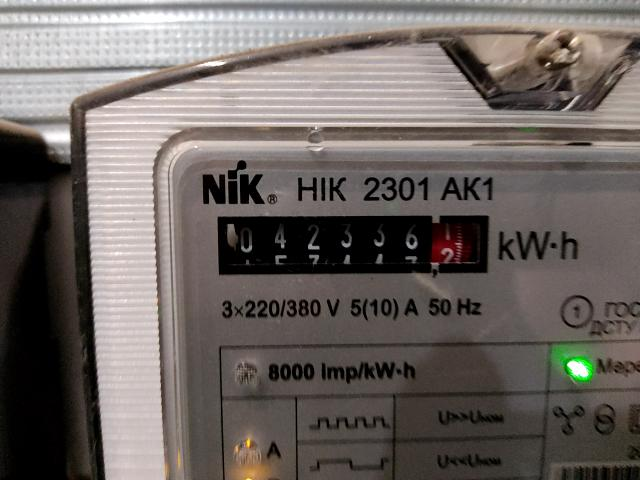0: (238, 226, 254, 254)
1: (441, 220, 453, 242)
2: (306, 222, 322, 251), (439, 246, 455, 264)
3: (370, 219, 386, 249), (338, 221, 353, 249)
4: (272, 221, 289, 250)
6: (404, 221, 421, 251)
screen: (206, 203, 502, 284)
